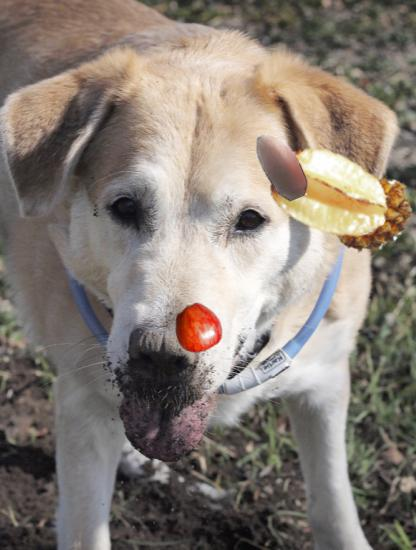Apple: (173, 303, 224, 354)
Carambula: (268, 133, 392, 257)
Hazelnut: (244, 127, 320, 203)
Pineapple: (328, 170, 414, 256)
